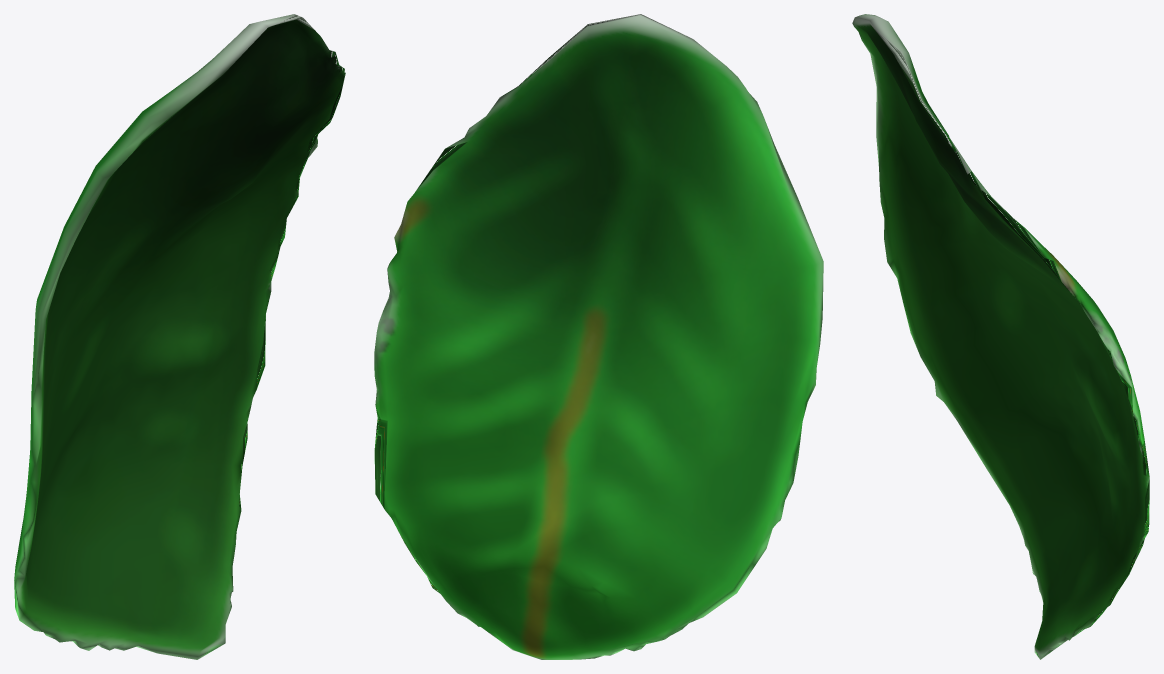
The picture shows the model from 3 angles, left to right: view 1: azimuth 30°, elevation 25°; view 2: azimuth 150°, elevation 25°; view 3: azimuth 270°, elevation 25°; orthographic projection. The views are drawn at different scales.
Visible parts, largest first — view 1: PM3D_Cube3D_22.010; view 2: PM3D_Cube3D_22.010; view 3: PM3D_Cube3D_22.010.
Part boxes in pixels (left/top/right/bottom): PM3D_Cube3D_22.010: left=14, top=14, right=345, bottom=659; PM3D_Cube3D_22.010: left=374, top=14, right=823, bottom=659; PM3D_Cube3D_22.010: left=852, top=14, right=1149, bottom=659.
Bounding box in the file's own units: 0.7477 × 1.26 × 0.5458.
1 material, 1 textured.
